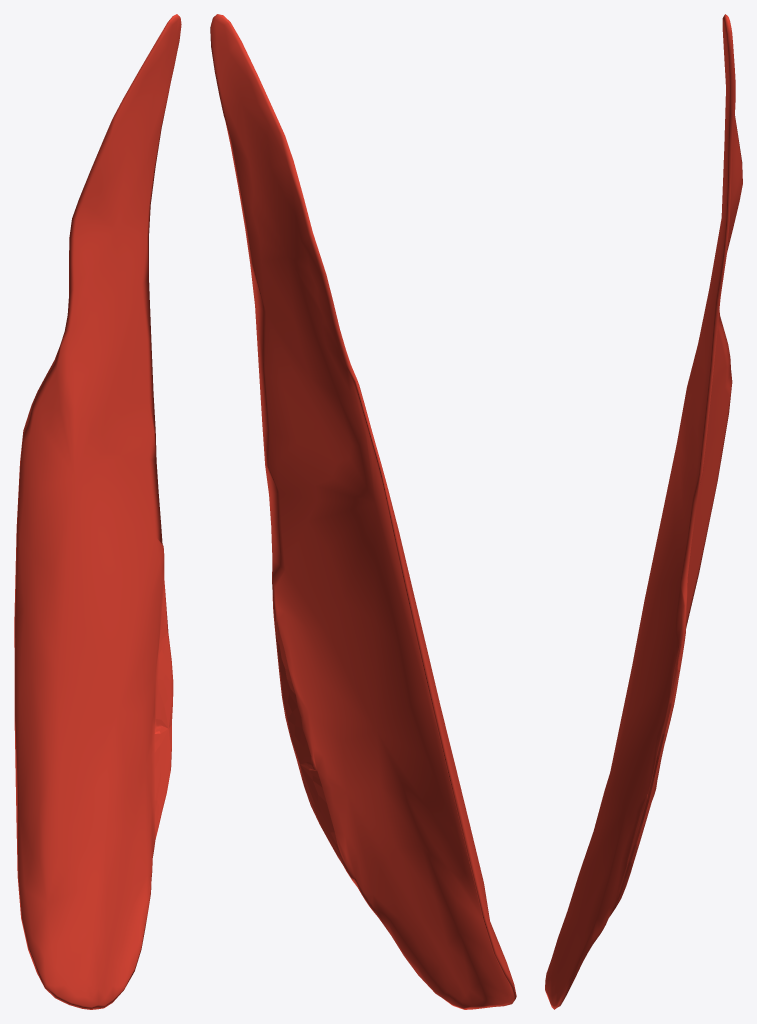
The model's file is Flexor_pollicis_longus-Radial_insertion.r_Generated_Mesh_From_X.glb.
The picture shows the model from 3 angles, left to right: view 1: azimuth 30°, elevation 25°; view 2: azimuth 150°, elevation 25°; view 3: azimuth 270°, elevation 25°; orthographic projection. The views are drawn at different scales.
Visible parts, largest first — view 1: Flexor_pollicis_longus-Radial_insertion.r_Generated_Mesh_Fro; view 2: Flexor_pollicis_longus-Radial_insertion.r_Generated_Mesh_Fro; view 3: Flexor_pollicis_longus-Radial_insertion.r_Generated_Mesh_Fro.
Boxes of the visible parts, bbox=[...] form: Flexor_pollicis_longus-Radial_insertion.r_Generated_Mesh_Fro: bbox=[14, 14, 181, 1009]; Flexor_pollicis_longus-Radial_insertion.r_Generated_Mesh_Fro: bbox=[210, 14, 516, 1009]; Flexor_pollicis_longus-Radial_insertion.r_Generated_Mesh_Fro: bbox=[545, 14, 742, 1009].
Bounding box in the file's own units: 0.0243 × 0.1011 × 0.0168.
